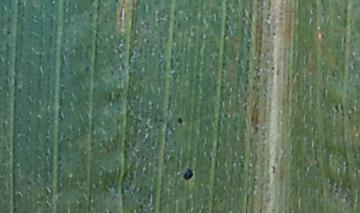tarspot: (181, 166, 194, 182), (176, 115, 185, 125), (331, 103, 338, 113), (268, 30, 278, 37), (270, 163, 276, 174), (84, 64, 90, 73), (268, 65, 276, 71)
